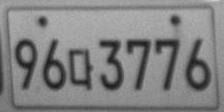3: (98, 39, 124, 91)
6: (184, 38, 211, 91), (41, 38, 66, 90)
7: (154, 39, 179, 90), (126, 39, 151, 89)
9: (13, 38, 38, 89)
다: (68, 48, 94, 91)
